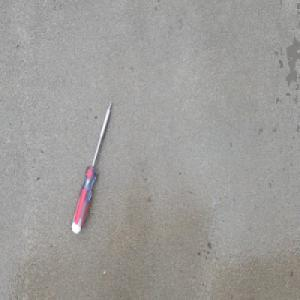Screwdriver: (70, 97, 113, 235)
